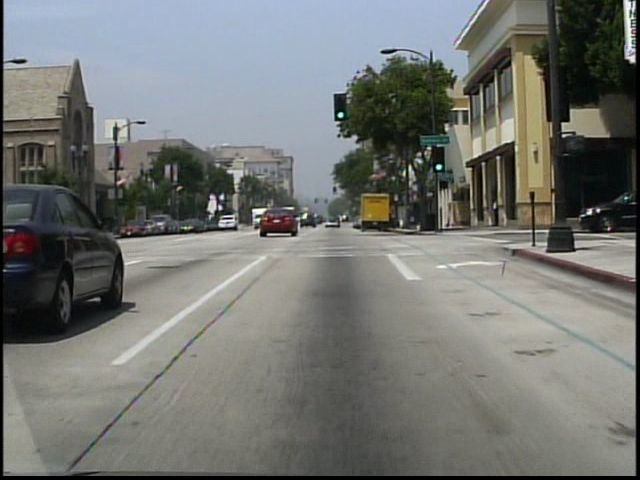person: (489, 195, 500, 229)
